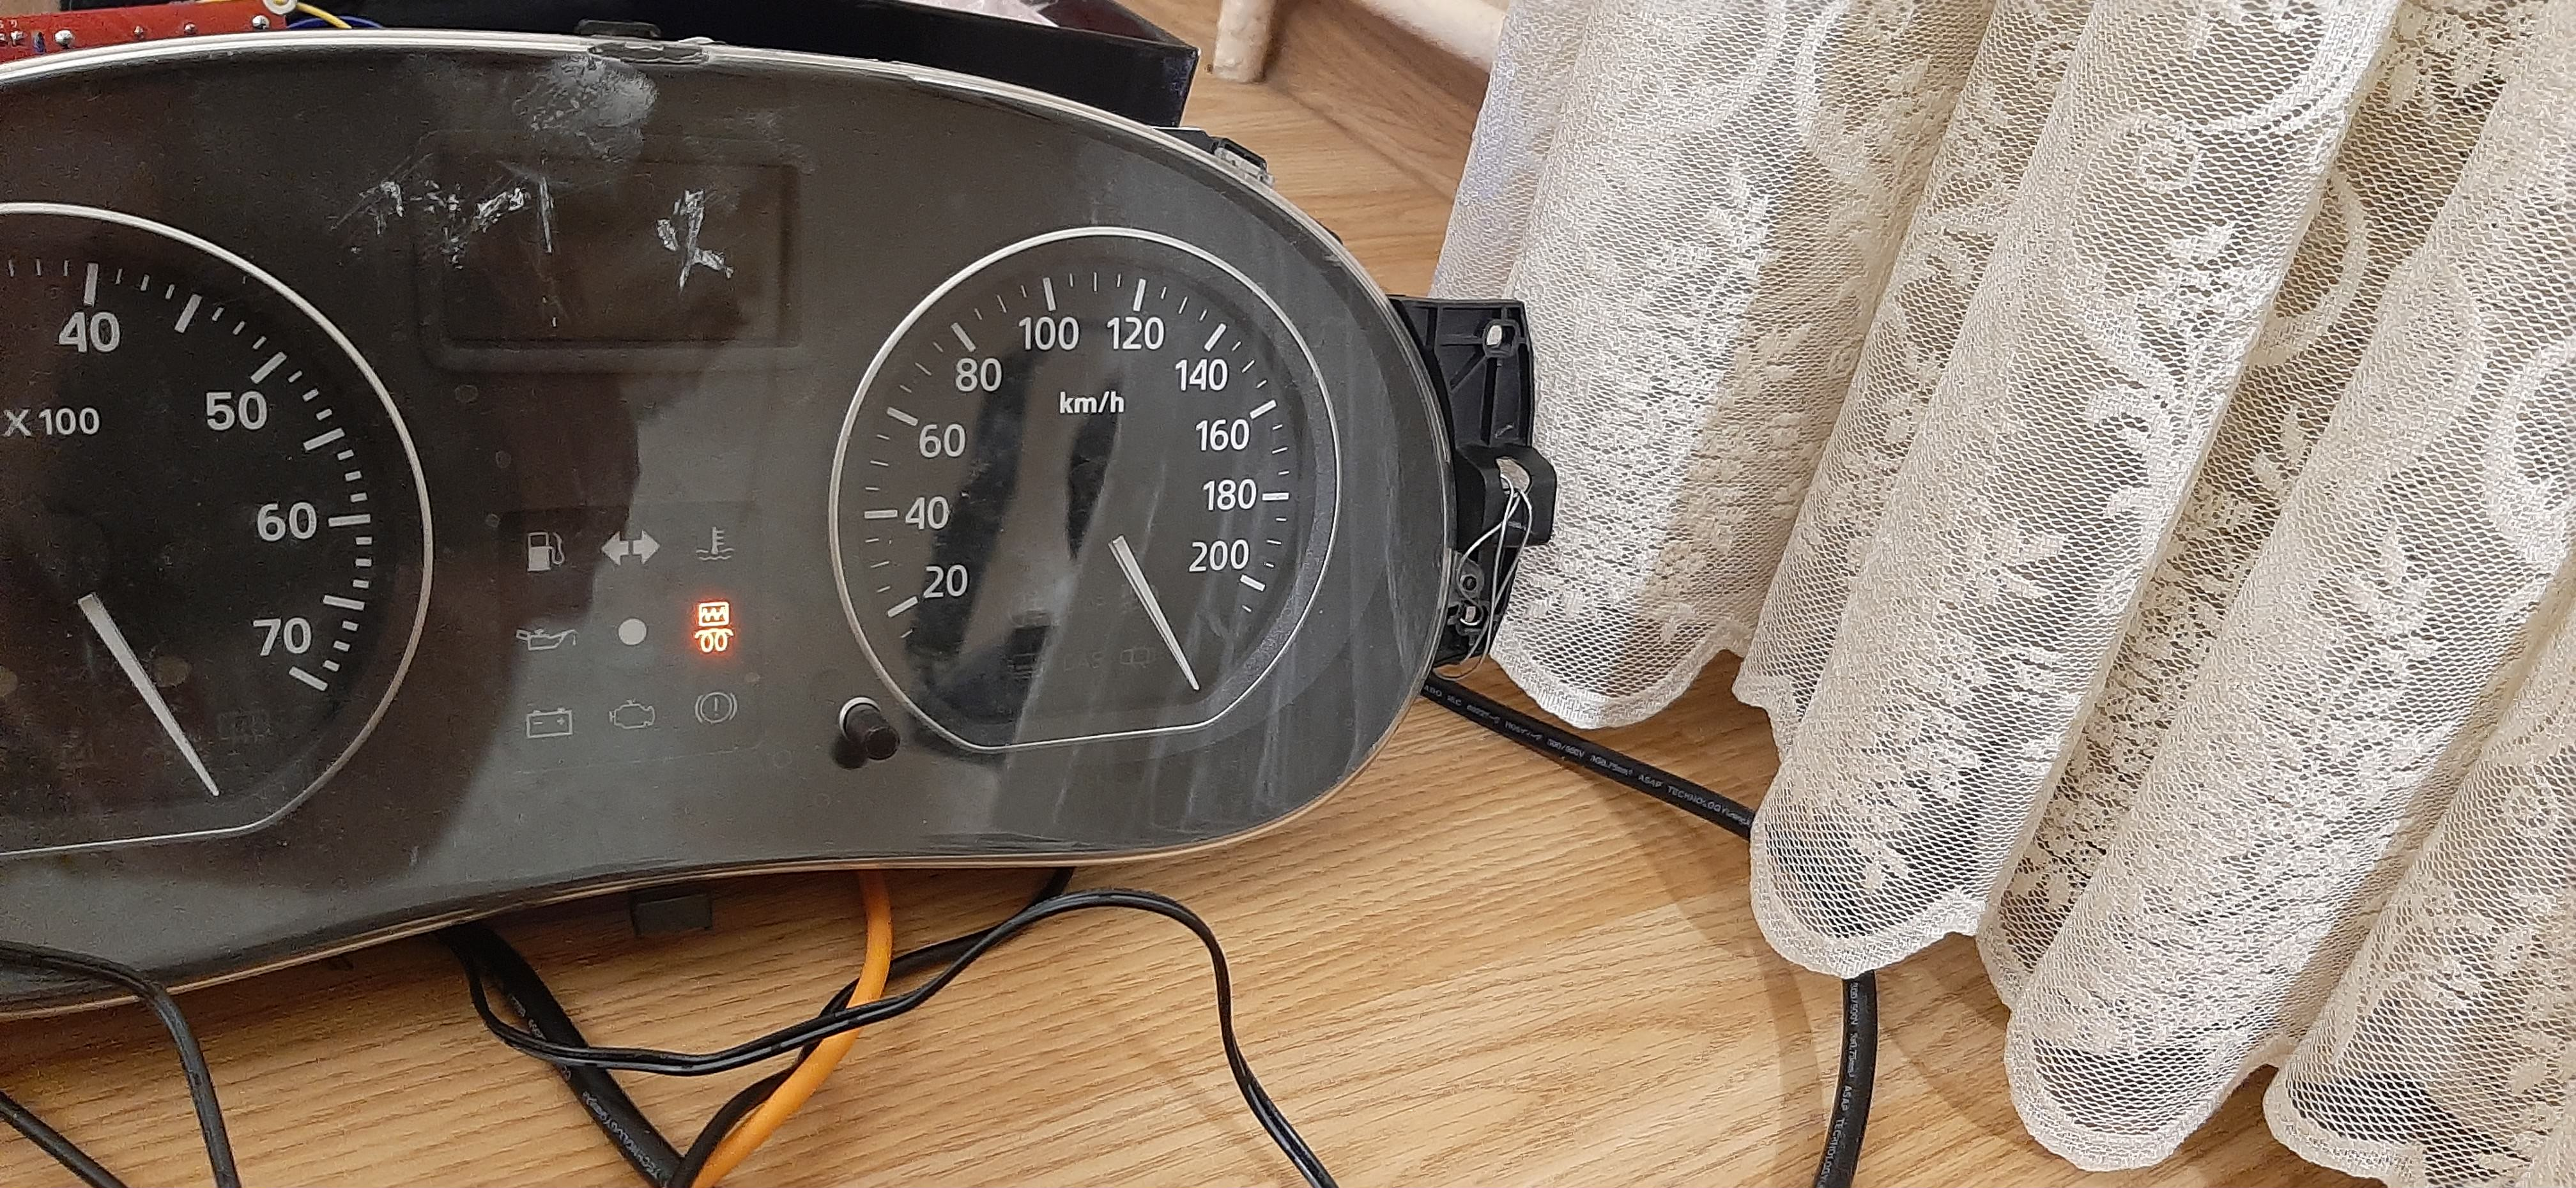diesel17: (692, 600, 736, 654)
